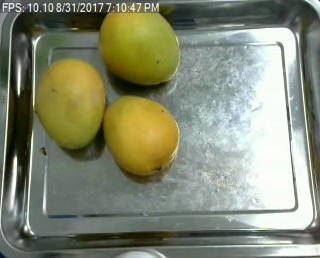Mango: (94, 5, 182, 87), (27, 55, 104, 147), (97, 93, 183, 175)
